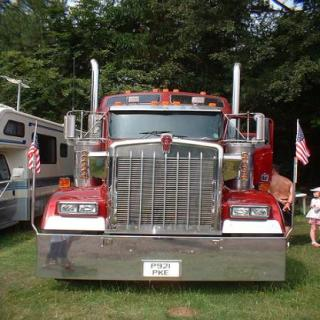Normal_vehicle: (26, 53, 292, 285)
